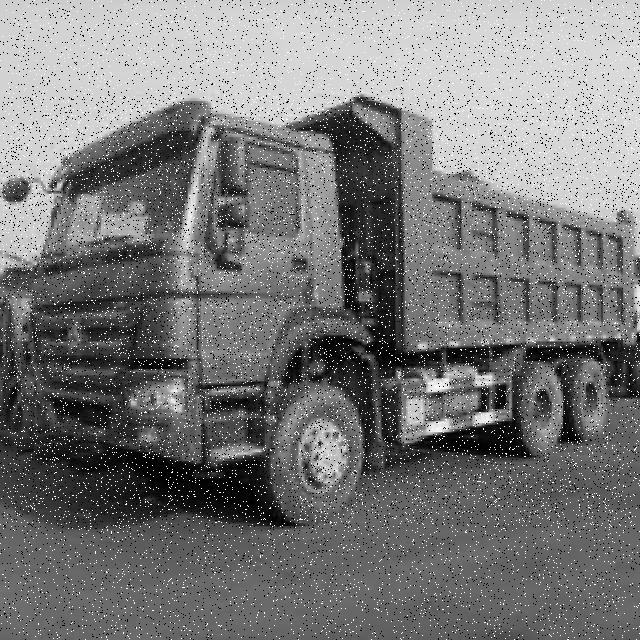Box Truck: (2, 97, 640, 528)
